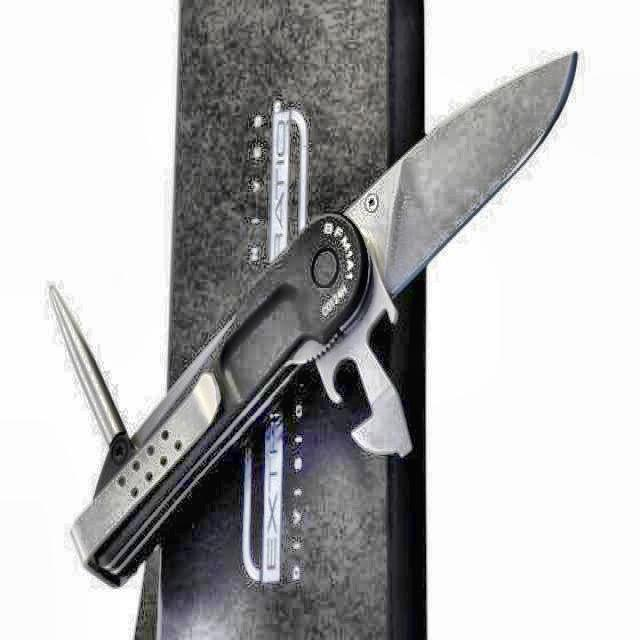knife: (71, 55, 576, 584)
